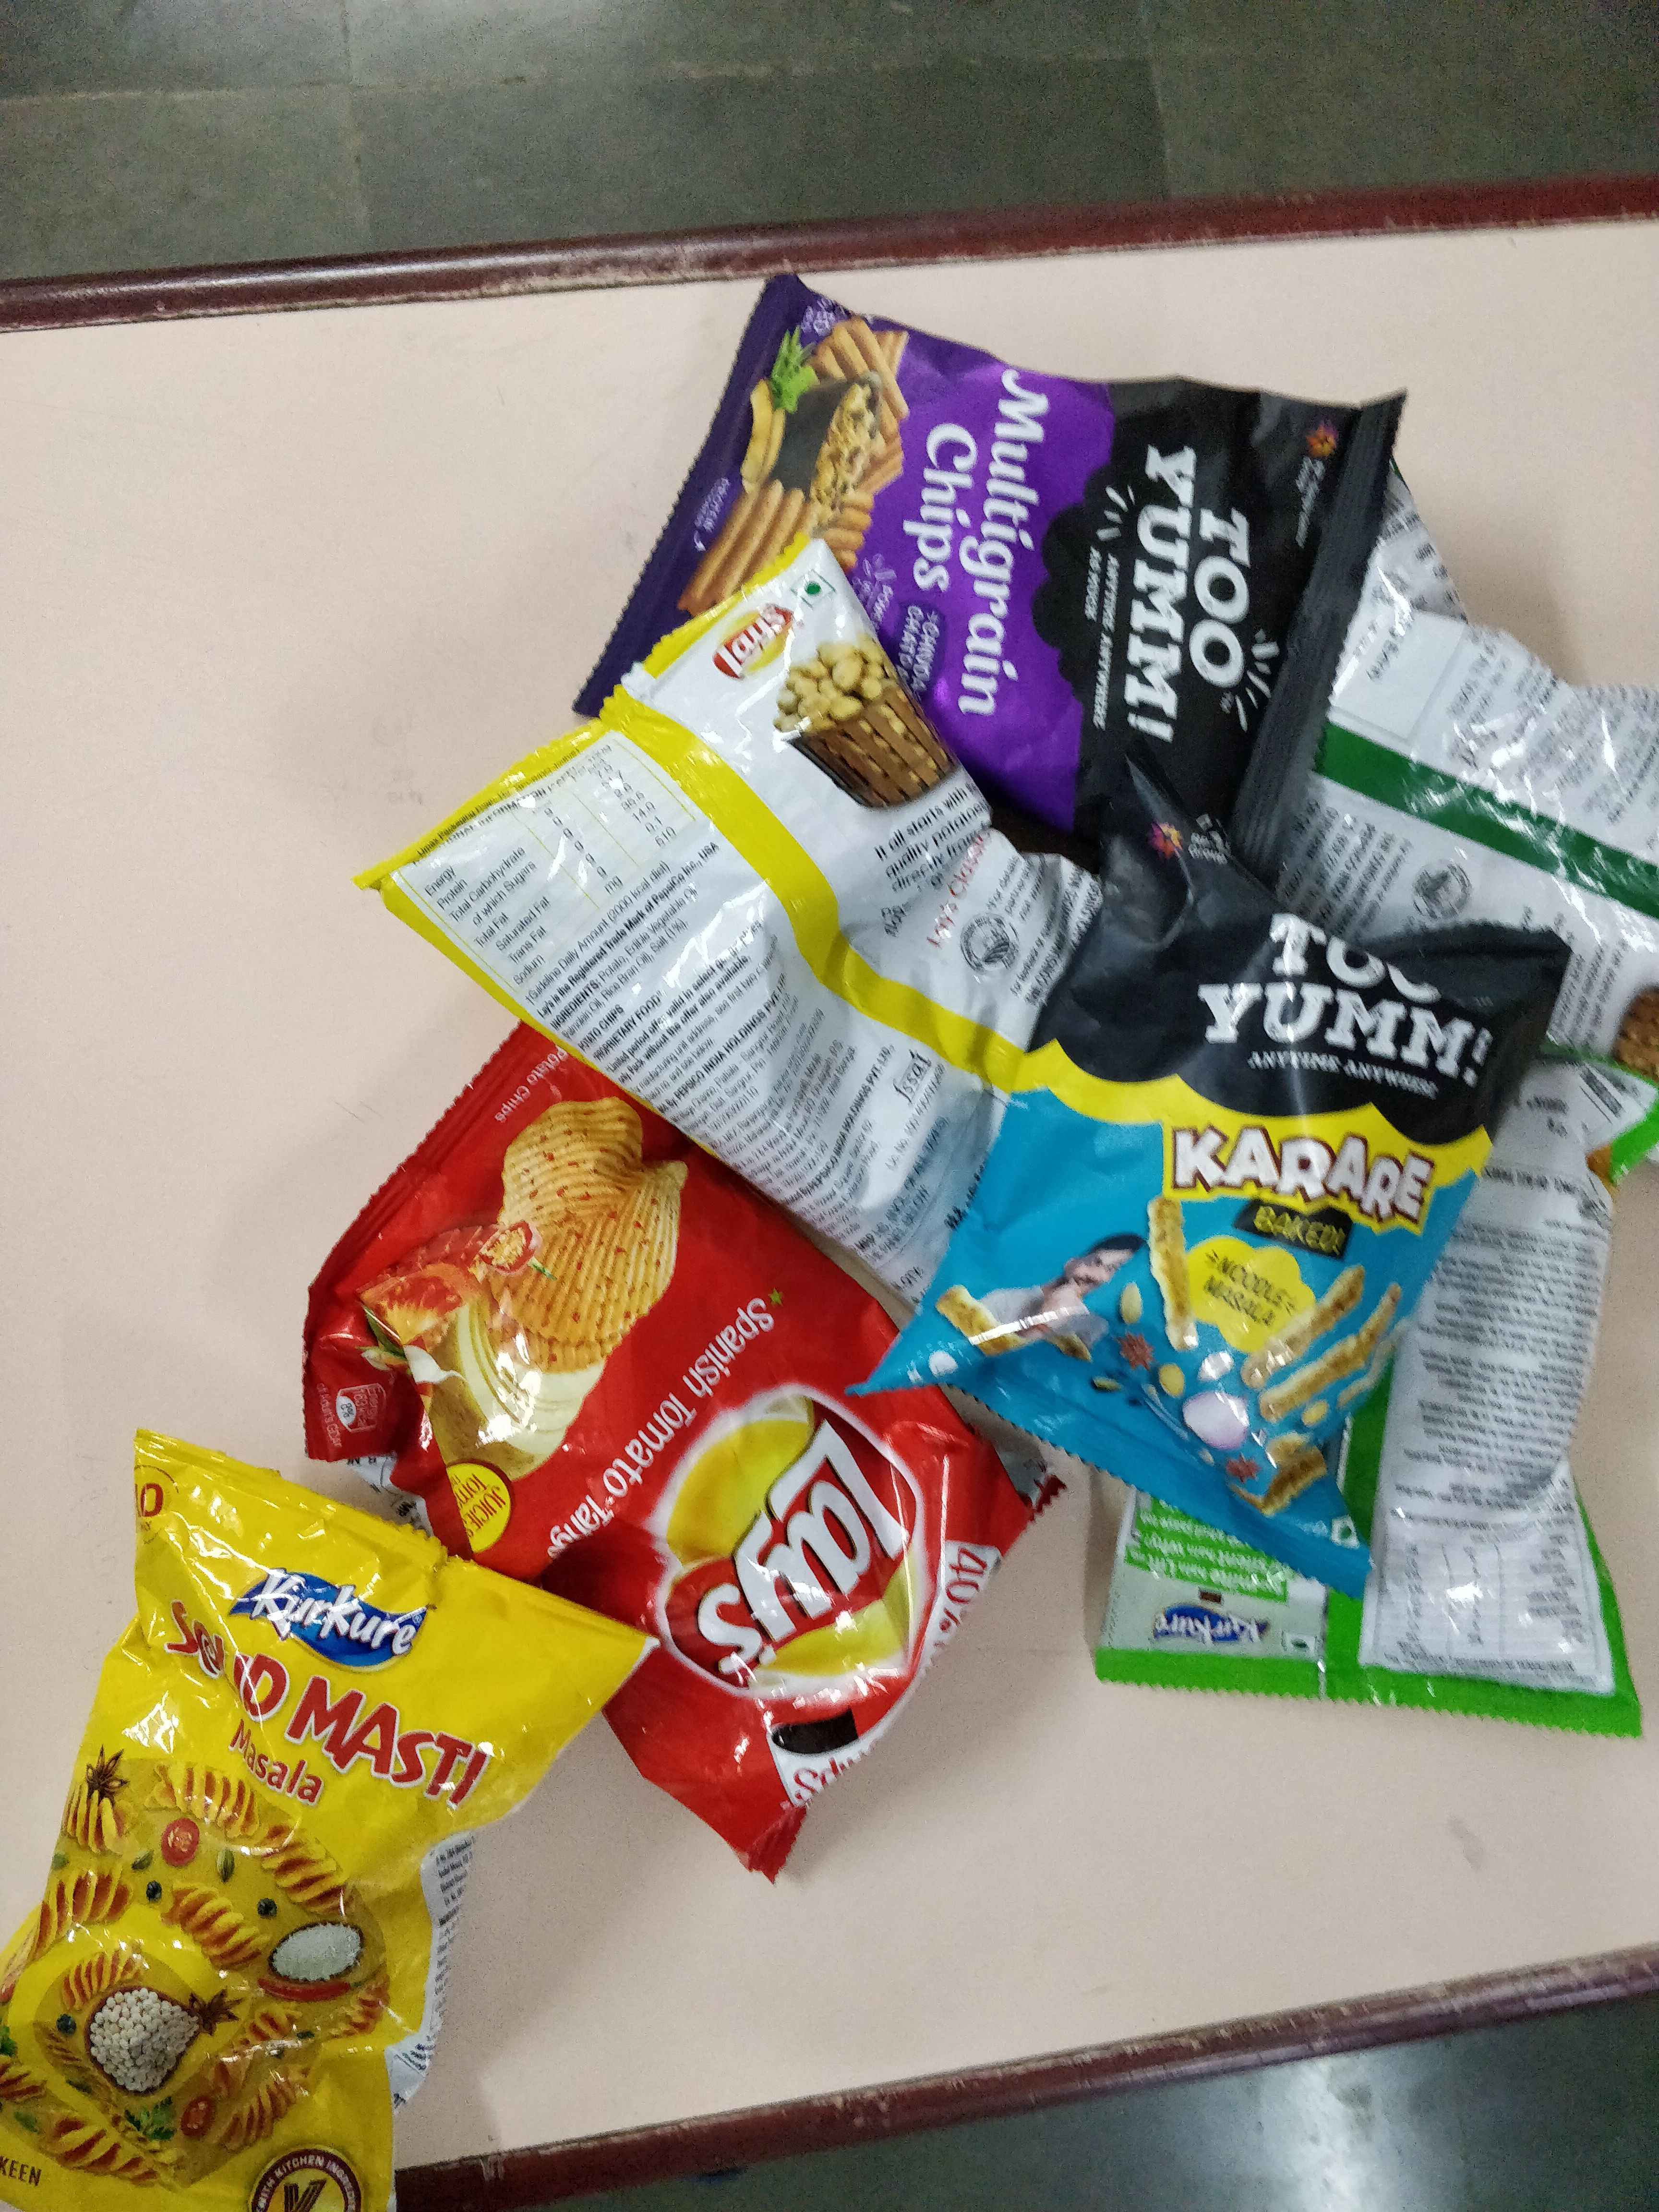Lays: (620, 1366, 960, 1721), (688, 603, 823, 697)
kurkure: (209, 1547, 455, 1710), (1141, 1597, 1265, 1663)
tooyumm: (1159, 888, 1509, 1122), (1077, 390, 1279, 779)
